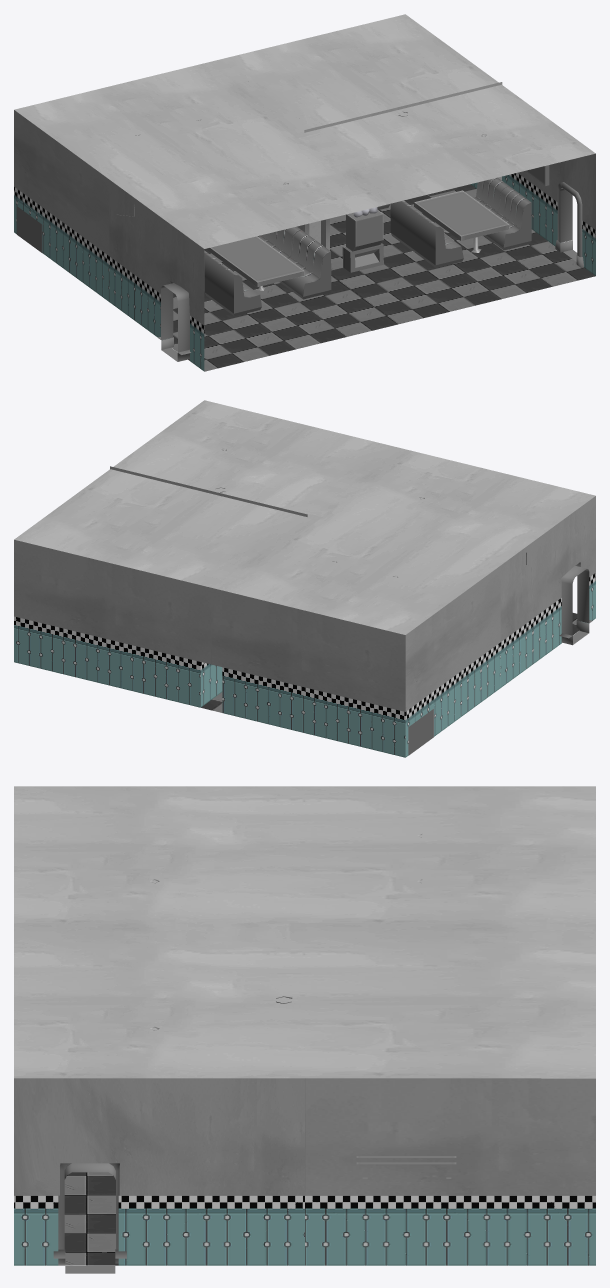
Rendered from MHS_Cafeteria_L2_R2_optimized.fbx.
The picture shows the model from 3 angles, top to bottom: view 1: azimuth 30°, elevation 25°; view 2: azimuth 150°, elevation 25°; view 3: azimuth 270°, elevation 25°; orthographic projection. The views are drawn at different scales.
Parts seen in each view (by area): view 1: lightmap0, lightmap1, lightmap-1; view 2: lightmap0, lightmap-1, lightmap1; view 3: lightmap0, lightmap-1.
Boxes of the visible parts, x1,y1,x2,y2 form: lightmap0: (14, 14, 595, 371); lightmap1: (17, 82, 549, 316); lightmap-1: (161, 188, 577, 361); lightmap0: (14, 400, 595, 757); lightmap-1: (561, 566, 589, 645); lightmap1: (110, 448, 526, 755); lightmap0: (14, 786, 595, 1265); lightmap-1: (64, 1163, 115, 1273).
Bounding box in the file's own units: 20.61 × 6.02 × 16.51.
Materials: 4 (2 with a texture image).
